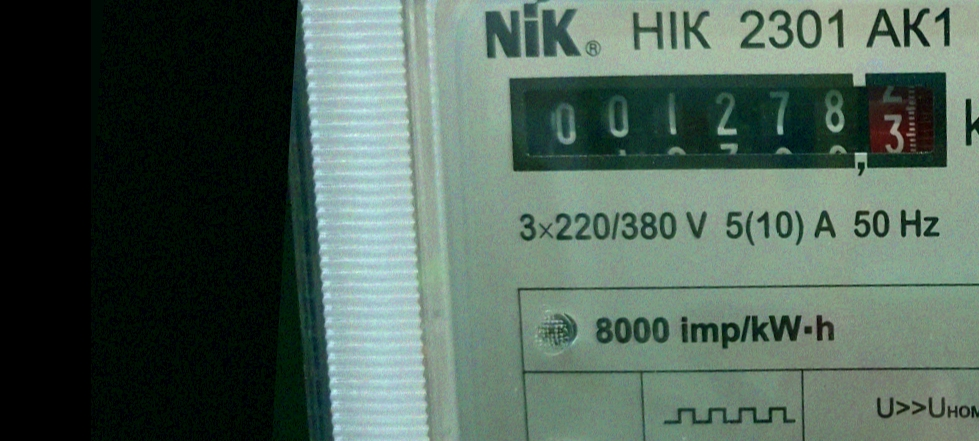0: (551, 97, 582, 146), (604, 91, 632, 138)
1: (663, 88, 682, 137)
2: (711, 88, 741, 136), (878, 82, 905, 105)
3: (879, 107, 908, 153)
7: (766, 86, 791, 136)
8: (820, 86, 848, 134)
screen: (484, 34, 969, 205)
